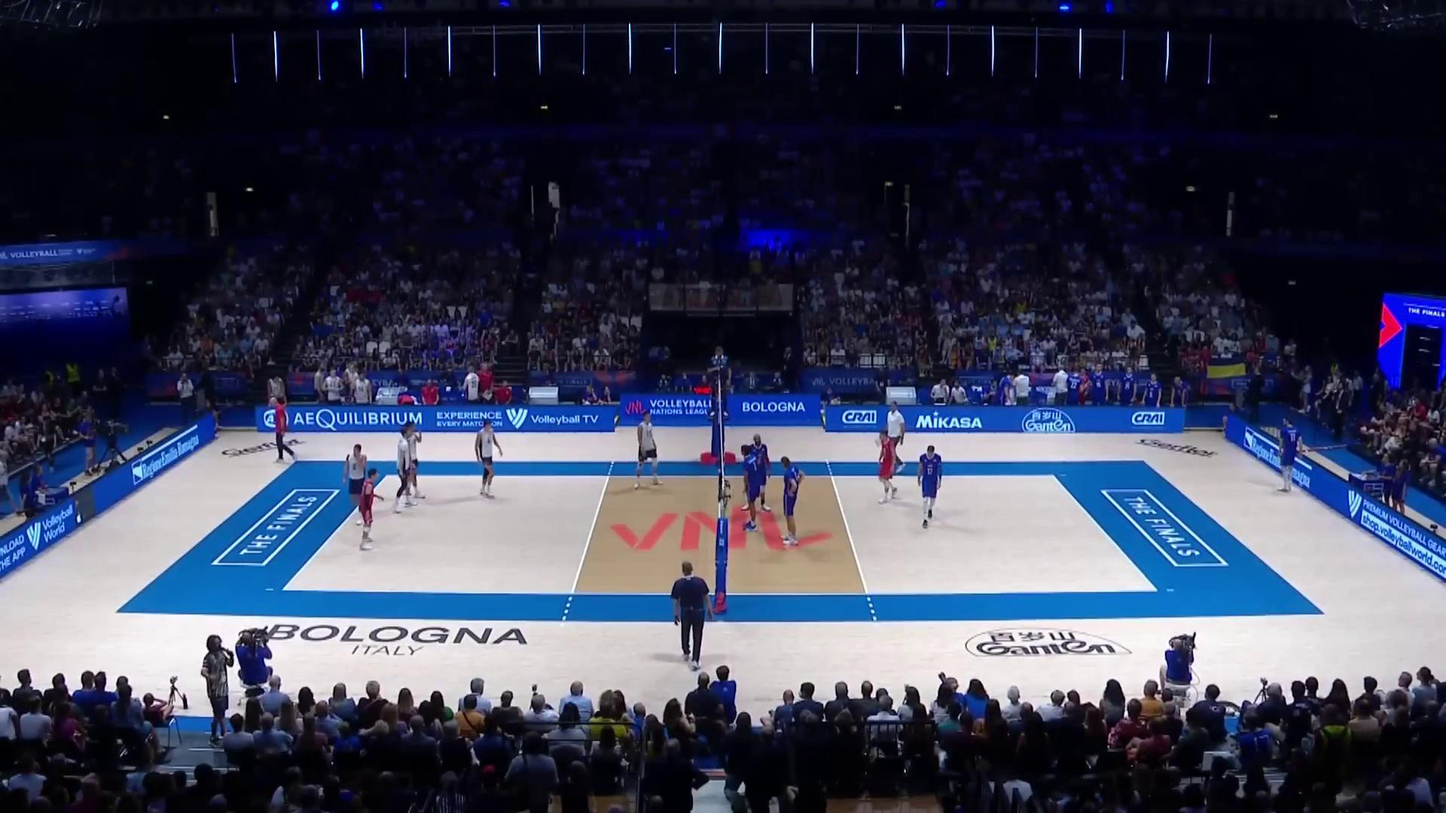player: (915, 445, 944, 531), (393, 428, 418, 517), (779, 456, 804, 544), (357, 467, 382, 553), (476, 420, 502, 500), (743, 434, 770, 510), (1277, 417, 1303, 494), (636, 409, 661, 489), (876, 430, 902, 504), (344, 443, 371, 513), (739, 446, 761, 531), (403, 419, 424, 506)
refree: (671, 565, 710, 665), (709, 347, 732, 415)
